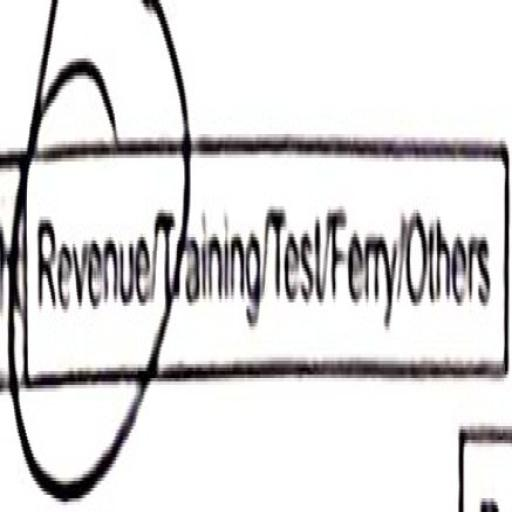check: (15, 15, 150, 505)
